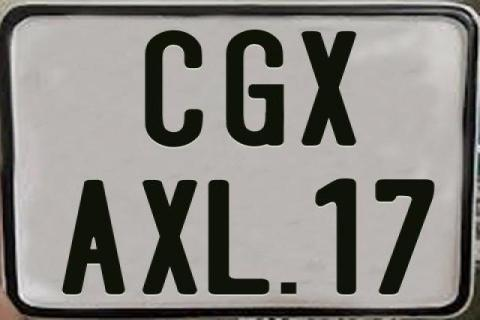0: (375, 180, 441, 300), (314, 177, 355, 297)
A: (61, 177, 125, 297)
C: (143, 29, 203, 149)
G: (225, 30, 284, 146)
L: (205, 180, 272, 296)
X: (300, 29, 360, 145), (141, 178, 199, 292)
